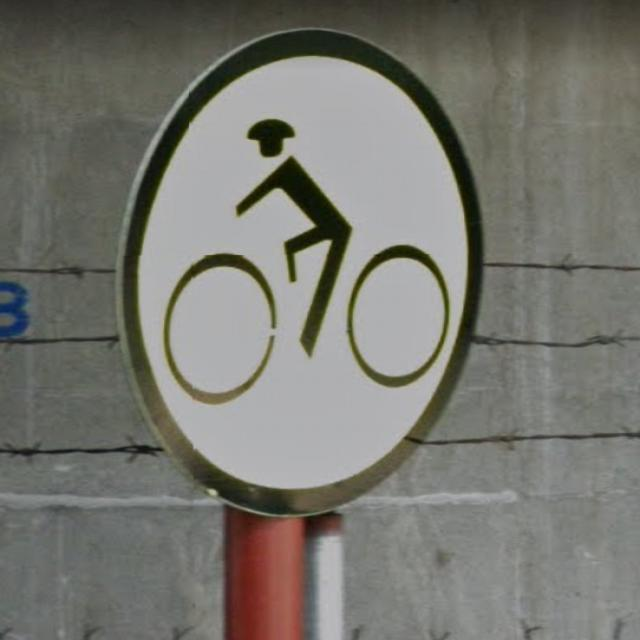bike lane: (116, 29, 482, 514)
